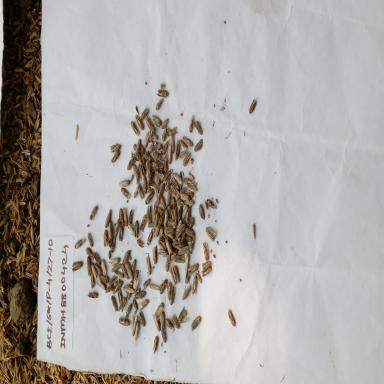pbw: (204, 225, 218, 244), (151, 312, 161, 332), (190, 314, 201, 332), (181, 284, 192, 302), (178, 306, 189, 324), (248, 96, 259, 114), (186, 262, 200, 276), (171, 238, 187, 250), (130, 313, 138, 337), (184, 263, 192, 287), (107, 272, 119, 288), (168, 266, 178, 285), (155, 301, 165, 320), (109, 231, 117, 254), (227, 308, 236, 328), (125, 261, 134, 281), (88, 204, 98, 222), (134, 113, 144, 131), (170, 313, 180, 331), (112, 278, 123, 294), (125, 282, 133, 304), (130, 120, 140, 137), (131, 150, 144, 163), (146, 140, 158, 154), (71, 259, 83, 273), (104, 207, 112, 228), (200, 264, 214, 276), (117, 315, 131, 327), (146, 228, 155, 246), (159, 278, 168, 296), (173, 264, 181, 284), (194, 120, 204, 136), (176, 222, 186, 238), (189, 235, 197, 255), (92, 251, 102, 267), (173, 140, 181, 160), (178, 169, 184, 195), (117, 207, 124, 229), (169, 284, 176, 306), (193, 138, 204, 152), (126, 156, 137, 170), (111, 150, 122, 164), (161, 139, 170, 156), (164, 317, 174, 332), (144, 190, 154, 205), (145, 255, 152, 276), (118, 296, 127, 312), (167, 126, 179, 138), (122, 248, 131, 264), (198, 202, 206, 220), (110, 294, 118, 312), (134, 318, 140, 342), (182, 136, 194, 148), (164, 175, 172, 193), (182, 152, 191, 168), (74, 237, 86, 249), (109, 256, 121, 268), (120, 187, 131, 200), (172, 172, 183, 185), (151, 245, 158, 265), (102, 228, 109, 248), (170, 183, 180, 197), (133, 219, 140, 239), (140, 212, 147, 232), (172, 254, 186, 264), (140, 106, 150, 120), (202, 241, 209, 261), (152, 150, 162, 164), (156, 88, 170, 98), (188, 114, 195, 134), (150, 140, 164, 150), (161, 125, 169, 142), (86, 231, 94, 248), (170, 207, 178, 224), (165, 237, 173, 254), (157, 182, 165, 199), (138, 311, 146, 328), (85, 246, 94, 261), (134, 137, 141, 156), (110, 142, 121, 154), (86, 255, 92, 277), (143, 151, 154, 163), (151, 114, 162, 126), (170, 194, 176, 216), (122, 284, 135, 294), (170, 177, 180, 190), (86, 291, 99, 301), (150, 160, 163, 170), (155, 98, 165, 111), (154, 169, 164, 182), (164, 168, 174, 181), (128, 221, 136, 237), (90, 262, 98, 278), (146, 115, 154, 131), (161, 116, 170, 130), (153, 200, 159, 221), (133, 182, 140, 200), (152, 334, 158, 355), (201, 260, 212, 271), (113, 218, 119, 238), (146, 205, 152, 225), (206, 198, 216, 210), (74, 122, 80, 142), (179, 192, 191, 202), (96, 280, 106, 292), (177, 246, 189, 256), (110, 263, 122, 273), (139, 298, 149, 310), (184, 227, 196, 237), (250, 222, 256, 242), (142, 175, 148, 195), (122, 206, 128, 226), (186, 183, 198, 193), (159, 195, 166, 212), (125, 302, 132, 319), (143, 131, 150, 148), (186, 216, 195, 229), (142, 278, 151, 291), (109, 220, 113, 249), (192, 273, 197, 296), (184, 252, 190, 271), (163, 154, 169, 173), (181, 198, 195, 206), (168, 216, 176, 230), (133, 290, 147, 298), (182, 204, 189, 220), (121, 266, 129, 280), (132, 296, 139, 312), (98, 273, 109, 283), (167, 280, 172, 302), (178, 149, 189, 159), (178, 139, 188, 150), (164, 226, 175, 236), (101, 258, 107, 276), (113, 270, 125, 279), (148, 283, 160, 292), (118, 226, 124, 244), (137, 185, 144, 200), (94, 262, 102, 275), (118, 179, 131, 187), (160, 327, 166, 344), (168, 206, 174, 223), (131, 257, 137, 274), (104, 284, 114, 294), (160, 310, 165, 330), (158, 247, 168, 257), (141, 155, 147, 171), (133, 268, 139, 284), (154, 212, 160, 228), (169, 250, 177, 262), (117, 288, 123, 304), (138, 158, 144, 174), (187, 170, 195, 182), (165, 254, 170, 273), (166, 189, 171, 208), (148, 128, 154, 143), (90, 272, 95, 290), (175, 198, 185, 207), (156, 238, 166, 247), (183, 177, 193, 186), (163, 210, 168, 227), (168, 144, 172, 165), (132, 163, 138, 177), (148, 172, 154, 186), (183, 234, 193, 242), (178, 204, 183, 220), (170, 134, 174, 154), (140, 143, 146, 156), (137, 237, 144, 248), (155, 223, 160, 238), (148, 159, 152, 177), (152, 131, 159, 141), (179, 186, 187, 194), (150, 182, 158, 190), (187, 205, 191, 221), (156, 175, 161, 187), (160, 225, 164, 239)
